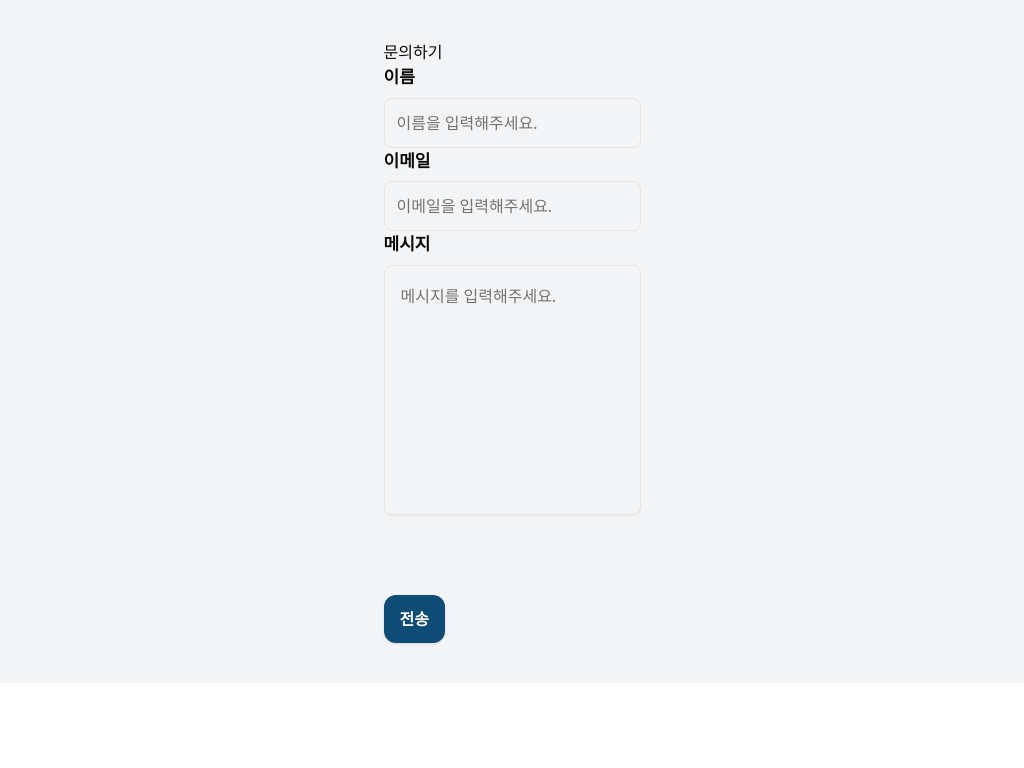
Test case: src/views/contact/ui/ContactPage.tsx › 통합 테스트 › 올바르지 않은 이메일을 입력해 제출하면 에러 메시지를 표시한다.
Type "이메일일까요?" into the field with placeholder "이메일을 입력해주세요." at (512,206), box [384,181,640,231]
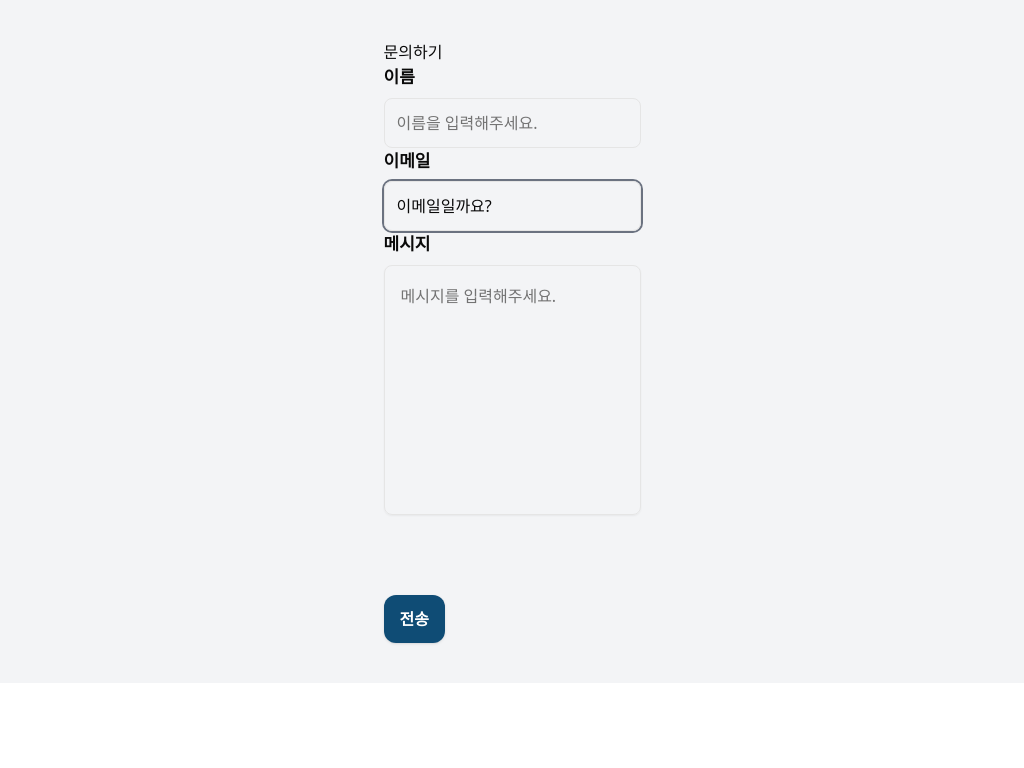
Click the button "전송" at (414,618), box [384,594,445,642]
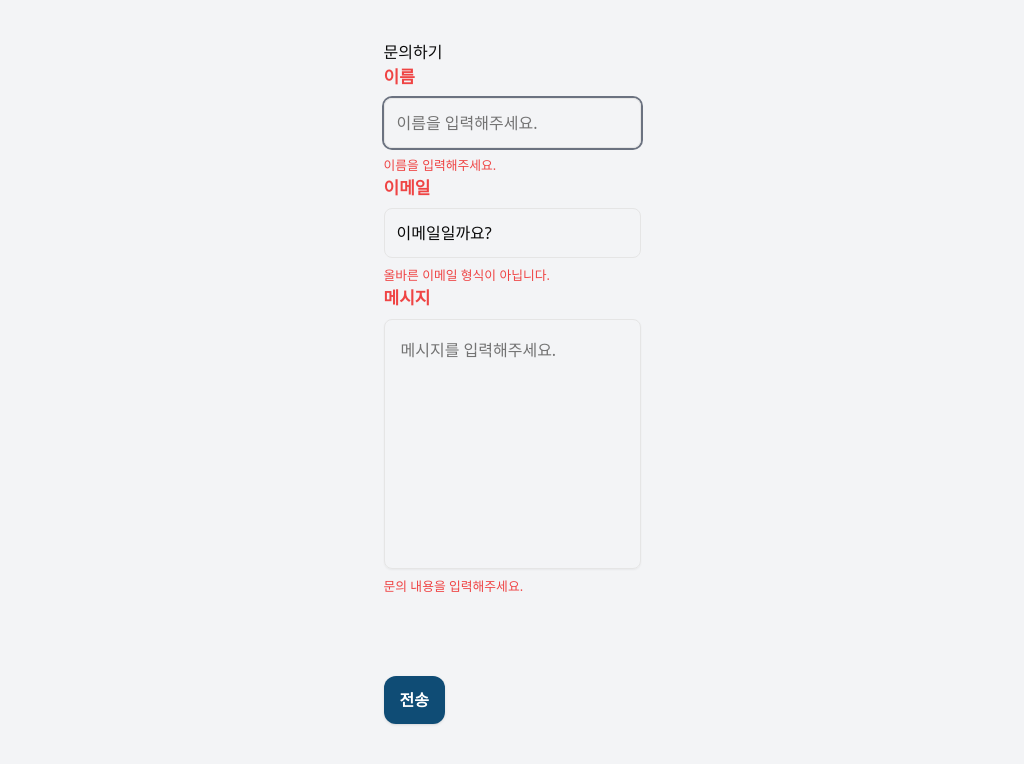
Check: the text "올바른 이메일 형식이 아닙니다." is shown, box [384,266,550,284]
